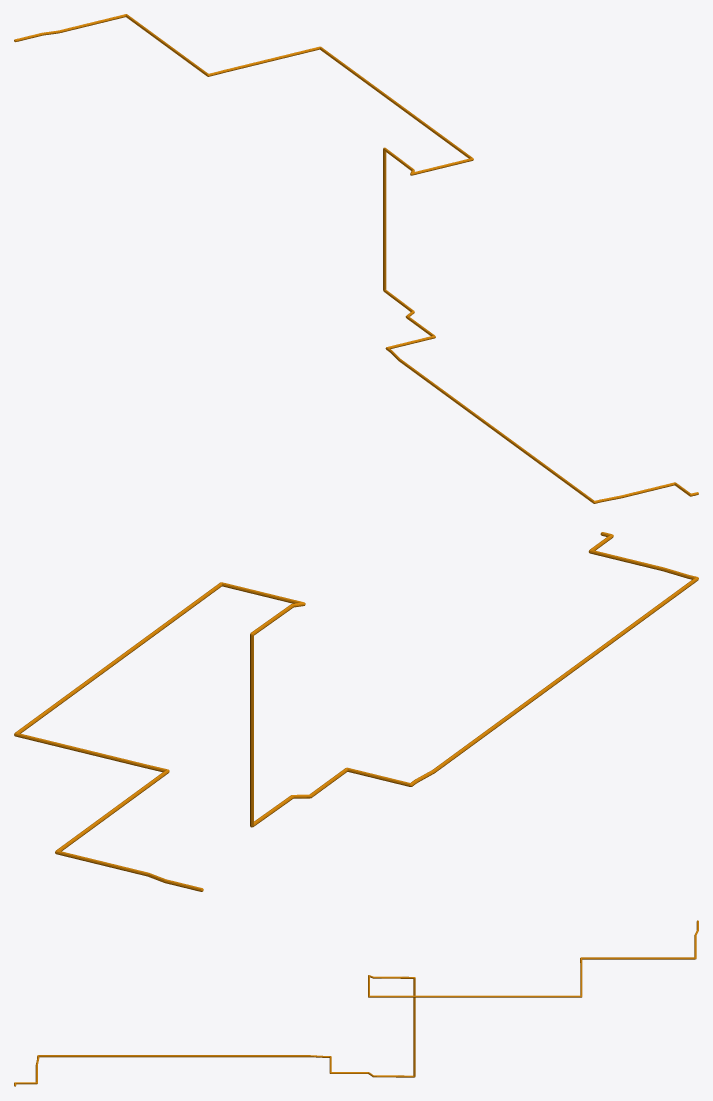
3 views of the same model, one above another, from view 1: azimuth 30°, elevation 25°; view 2: azimuth 150°, elevation 25°; view 3: azimuth 270°, elevation 25° (orthographic). The views are drawn at different scales.
Bounding box in the file's own units: 1656 × 1020 × 6291.
